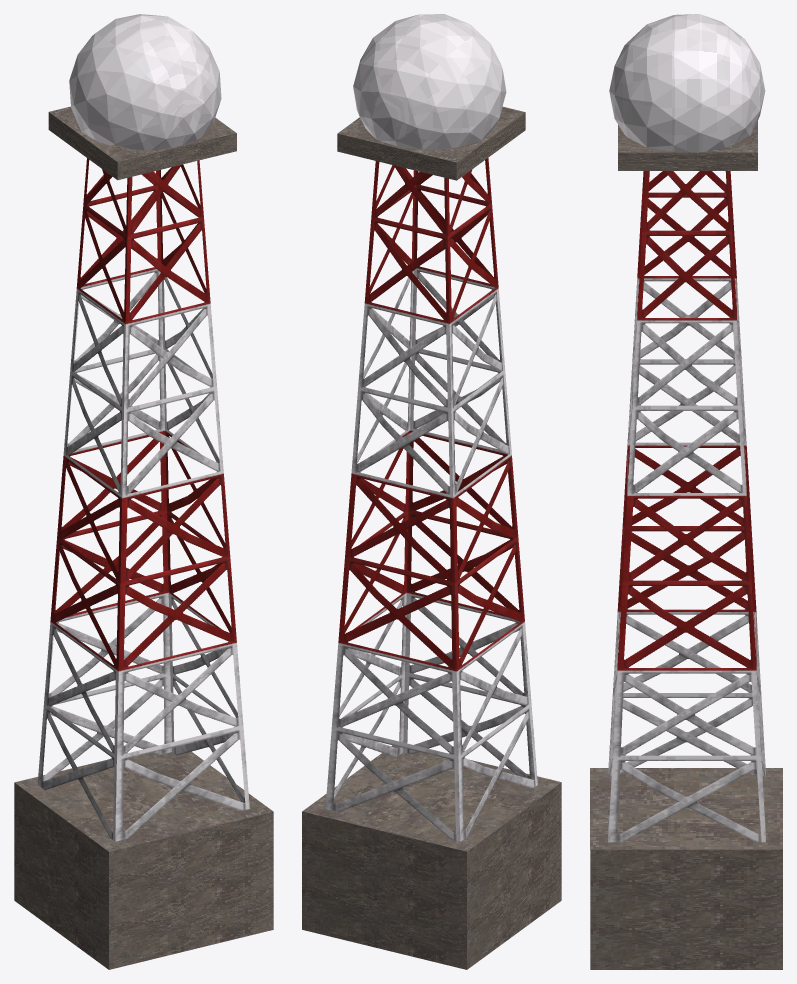
File: COMTO3XA.glb
The picture shows the model from 3 angles, left to right: view 1: azimuth 30°, elevation 25°; view 2: azimuth 150°, elevation 25°; view 3: azimuth 270°, elevation 25°; orthographic projection.
Visible parts, largest first — view 1: _COMTO3XA; view 2: _COMTO3XA; view 3: _COMTO3XA.
Boxes of the visible parts, box(x1,y1,x2,y2) form: _COMTO3XA: box(14, 14, 273, 969); _COMTO3XA: box(302, 14, 561, 969); _COMTO3XA: box(590, 14, 782, 969).
Size of the model in its own units: 4.88 by 25.3 by 4.87.
Materials: 3 (3 with a texture image).
